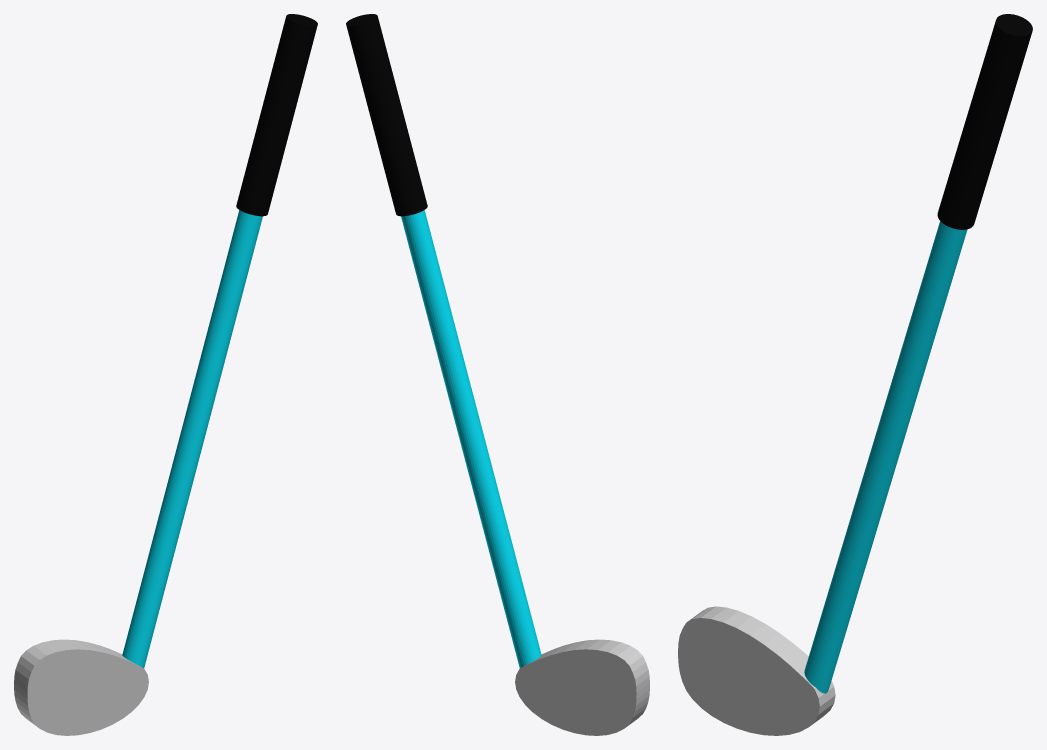
The model's file is golf_club_v2.fbx.
The picture shows the model from 3 angles, left to right: view 1: azimuth 30°, elevation 25°; view 2: azimuth 150°, elevation 25°; view 3: azimuth 330°, elevation 25°; orthographic projection. The views are drawn at different scales.
Parts seen in each view (by area): view 1: Cylinder.001; view 2: Cylinder.001; view 3: Cylinder.001.
Part boxes in pixels (box(x1,y1,x2,y2)): Cylinder.001: box(14, 14, 317, 735); Cylinder.001: box(346, 14, 649, 735); Cylinder.001: box(678, 14, 1032, 735).
Size of the model in its own units: 0.5216 by 1.11 by 0.0502.
